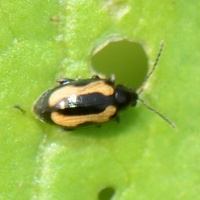insect: (33, 39, 163, 129), (33, 39, 163, 129)
